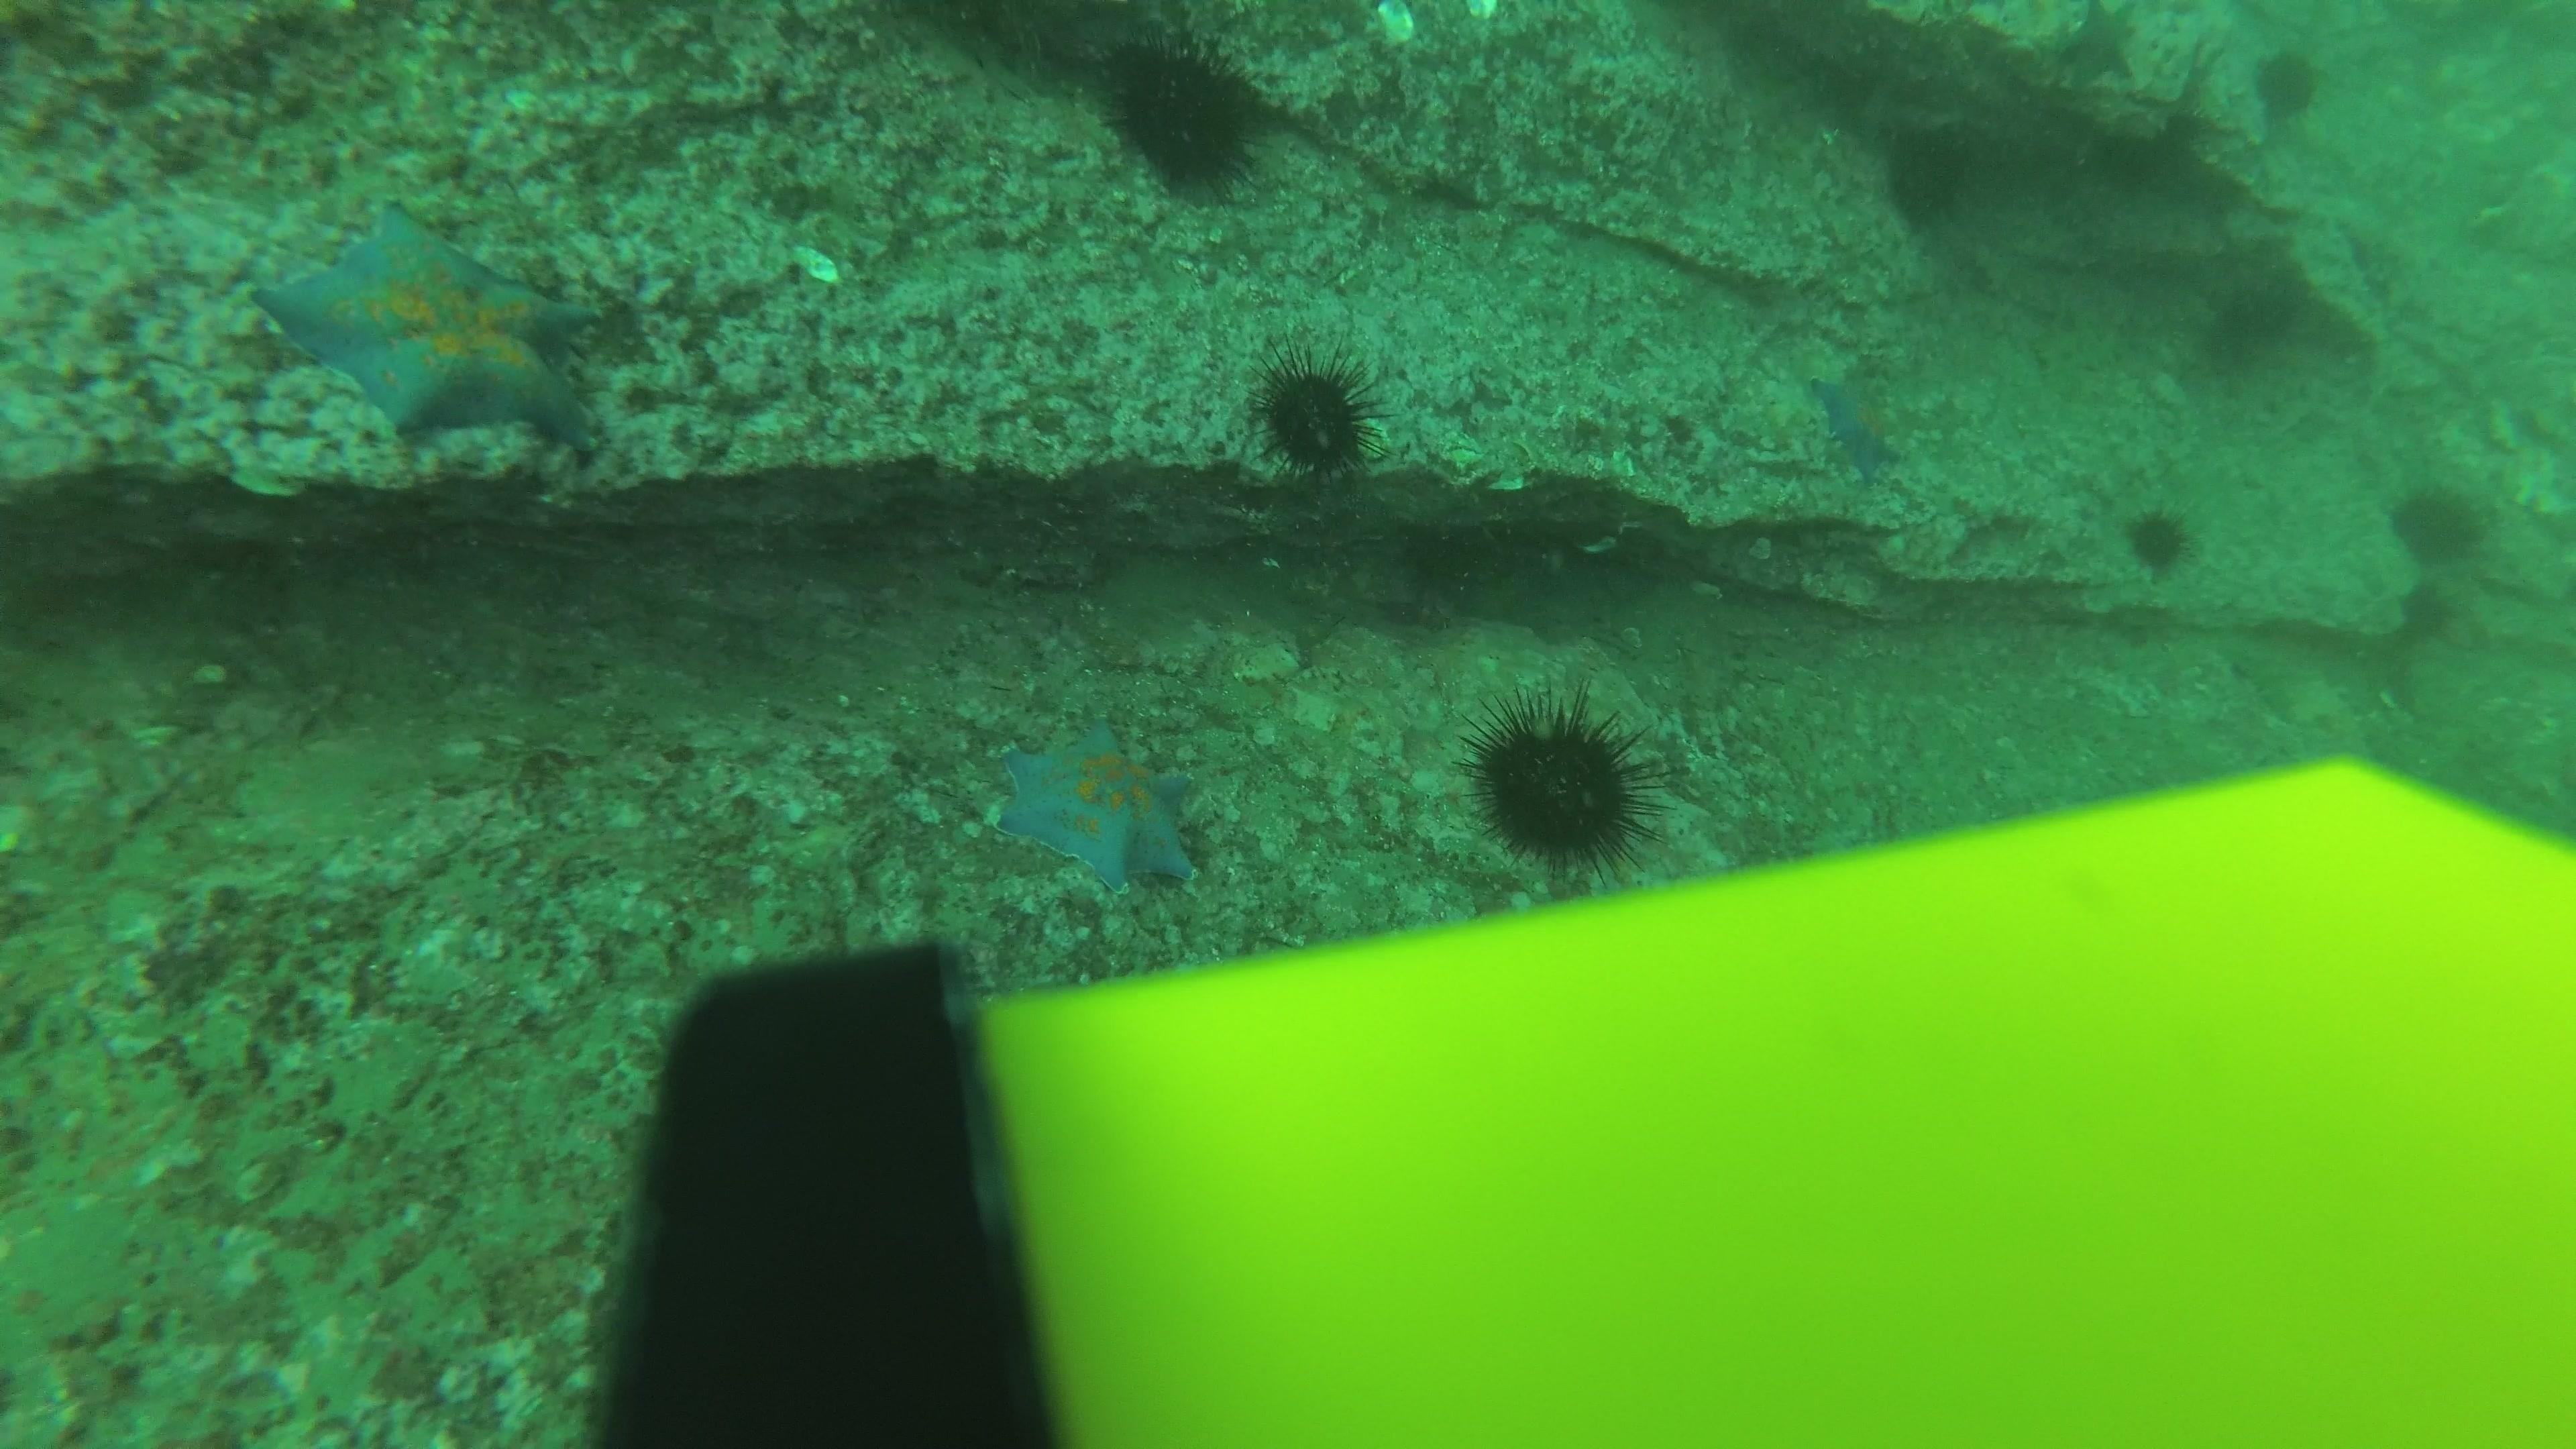echinus: (1458, 685, 1665, 876), (1095, 30, 1274, 198), (1246, 345, 1384, 479), (2192, 267, 2311, 377), (1875, 120, 1980, 230), (2383, 476, 2495, 570), (2245, 44, 2328, 127), (2118, 499, 2201, 577), (2394, 568, 2459, 637)
starfish: (249, 200, 609, 456), (987, 713, 1207, 899), (1803, 361, 1907, 479), (2047, 2, 2143, 85)
